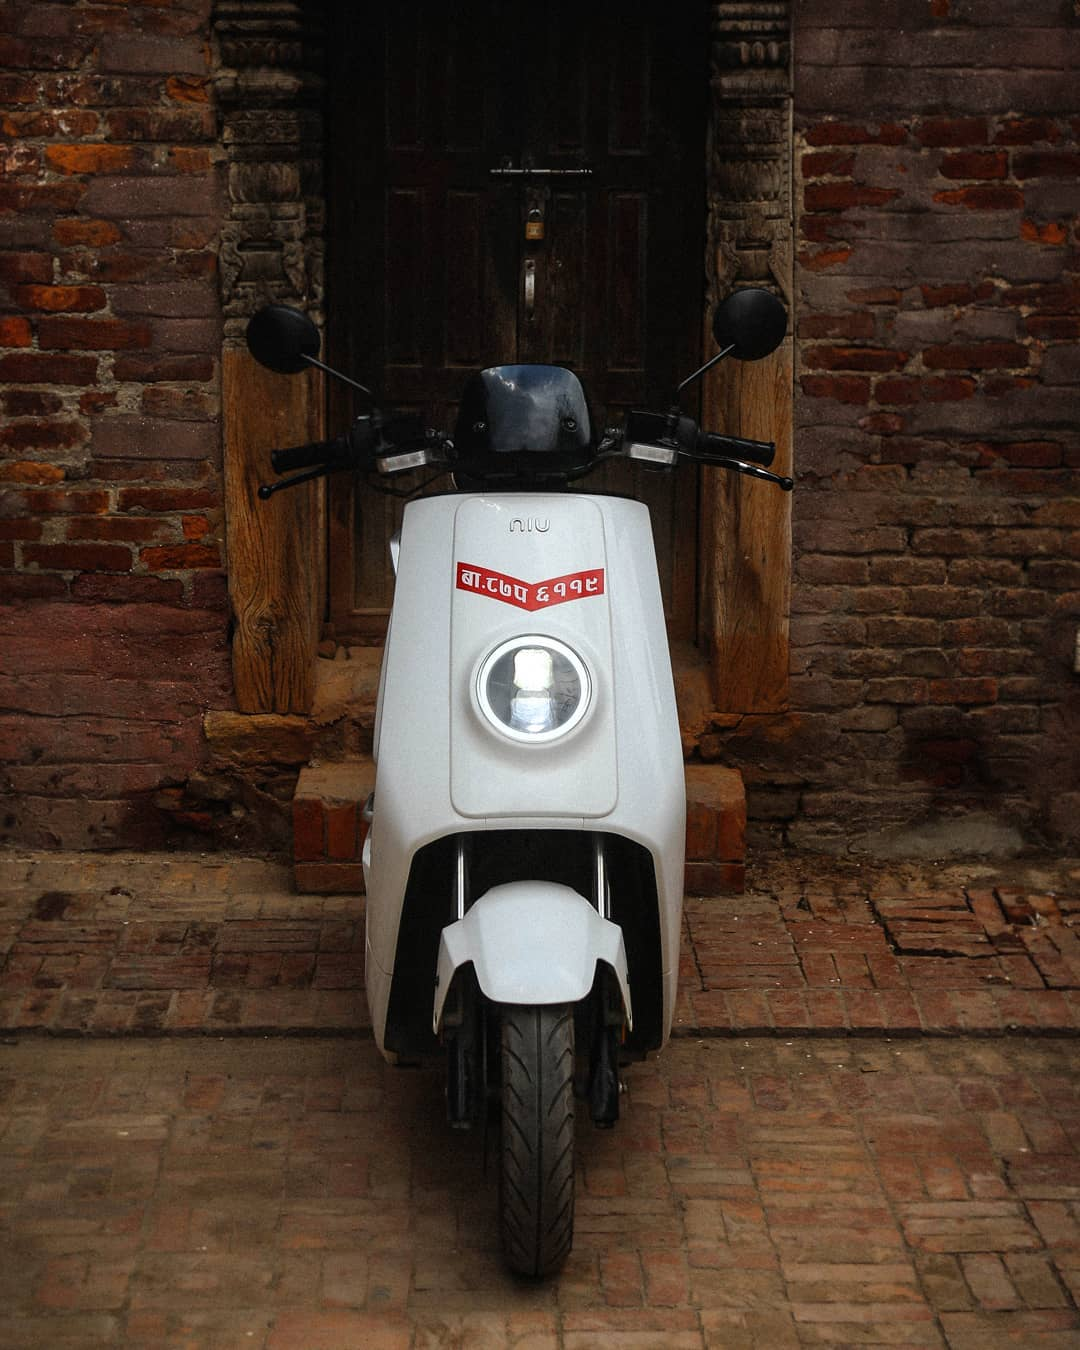number plate: (447, 557, 611, 618)
